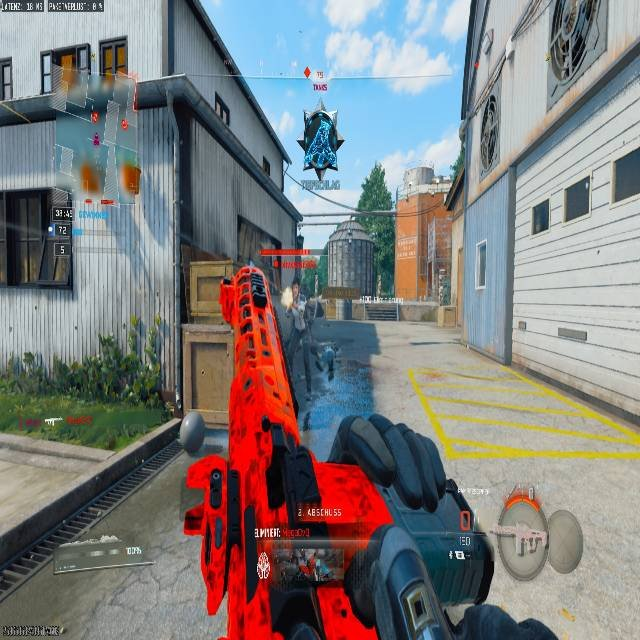player: (298, 105, 344, 181)
